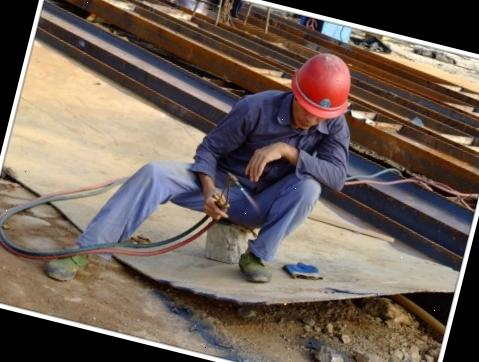helmet: (280, 45, 359, 126)
wear: (211, 95, 345, 234)
